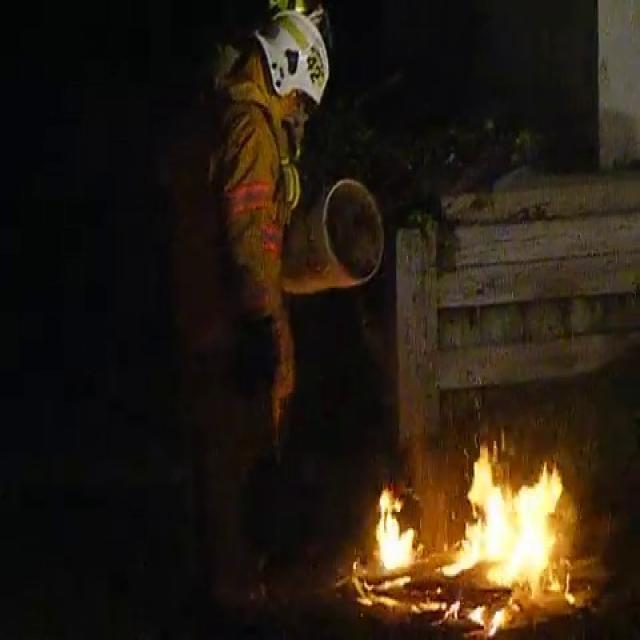Fire: (431, 426, 588, 638), (364, 474, 422, 590)
